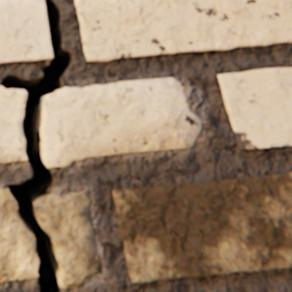brick: (111, 171, 291, 281), (74, 0, 291, 61), (216, 67, 291, 148), (0, 0, 52, 62)
broken_brick: (40, 77, 199, 166), (33, 190, 100, 286), (0, 187, 38, 280), (0, 85, 26, 161)
crack: (1, 0, 72, 291)
